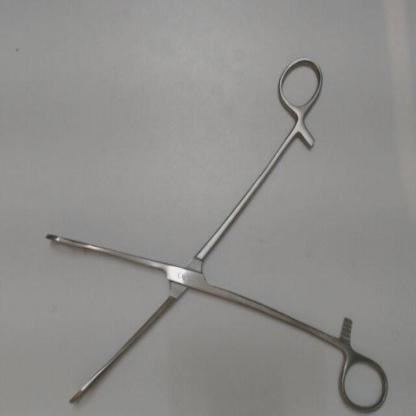Sponge Forceps: (29, 43, 393, 416)
